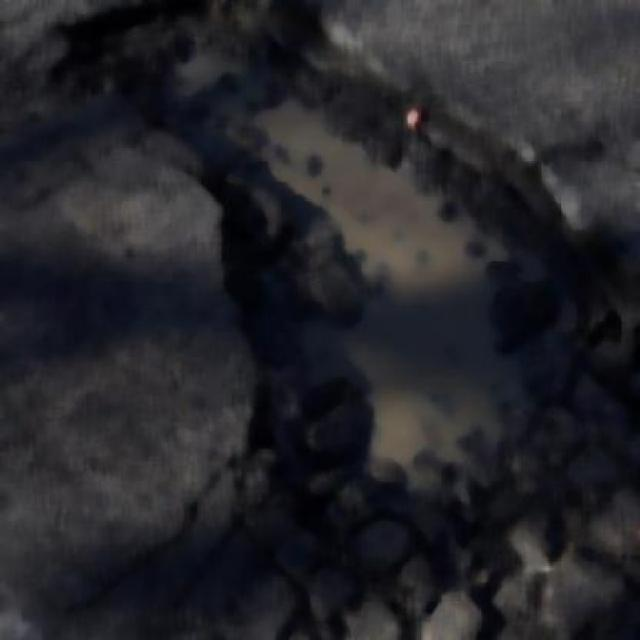Pothole: (25, 0, 640, 640)
